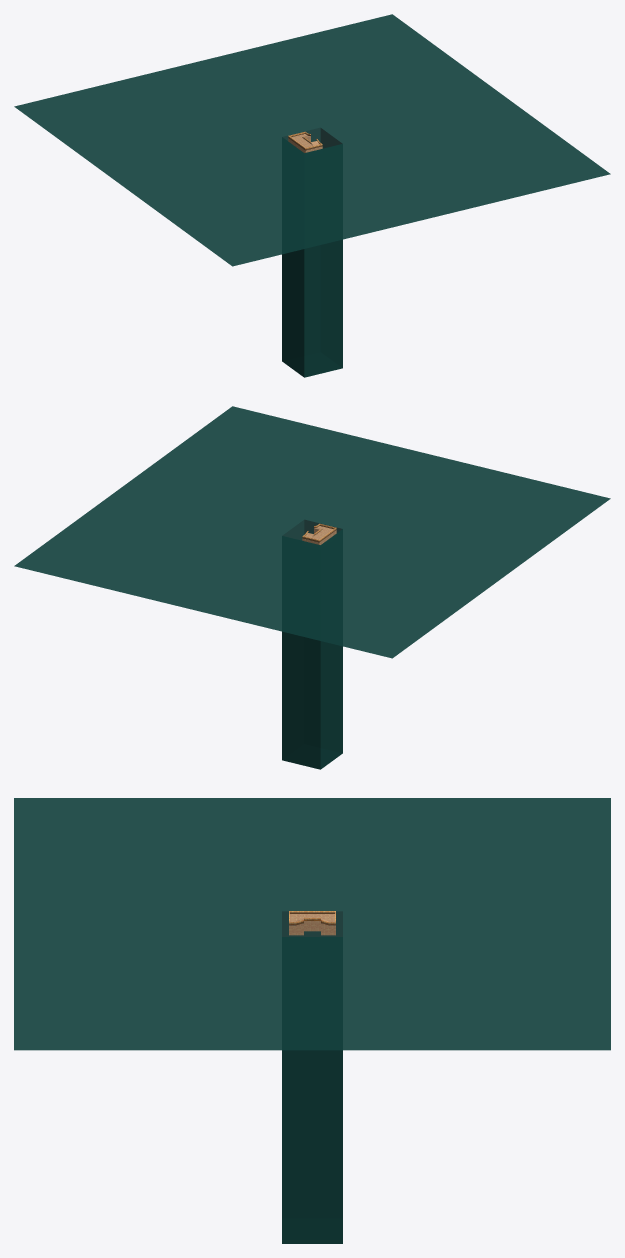
File: Duel_Stage 39.fbx
3 views of the same model, one above another, from view 1: azimuth 30°, elevation 25°; view 2: azimuth 150°, elevation 25°; view 3: azimuth 270°, elevation 25° (orthographic). The views are drawn at different scales.
Parts seen in each view (by area): view 1: Plane.127; view 2: Plane.127; view 3: Plane.127, CR_Platform_Cube__1_.
Boxes of the visible parts, left/top/right/bottom form: Plane.127: left=14, top=14, right=610, bottom=377; Plane.127: left=14, top=406, right=610, bottom=769; Plane.127: left=14, top=798, right=610, bottom=1243; CR_Platform_Cube__1_: left=289, top=914, right=335, bottom=935.
Bounding box in the file's own units: 53139 × 30598 × 53139.
